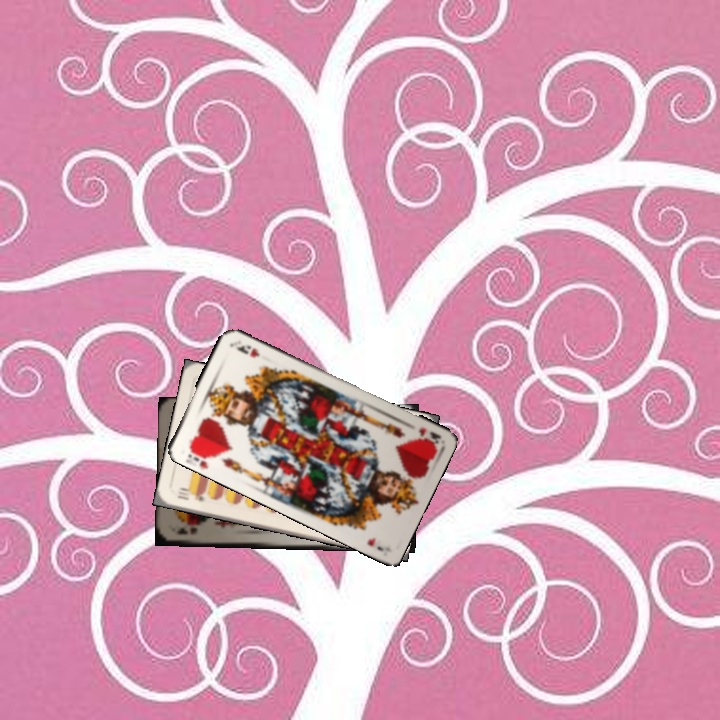E10: (173, 485, 207, 504)
HK: (183, 442, 218, 464), (414, 423, 443, 448)
SK: (172, 524, 199, 538)
